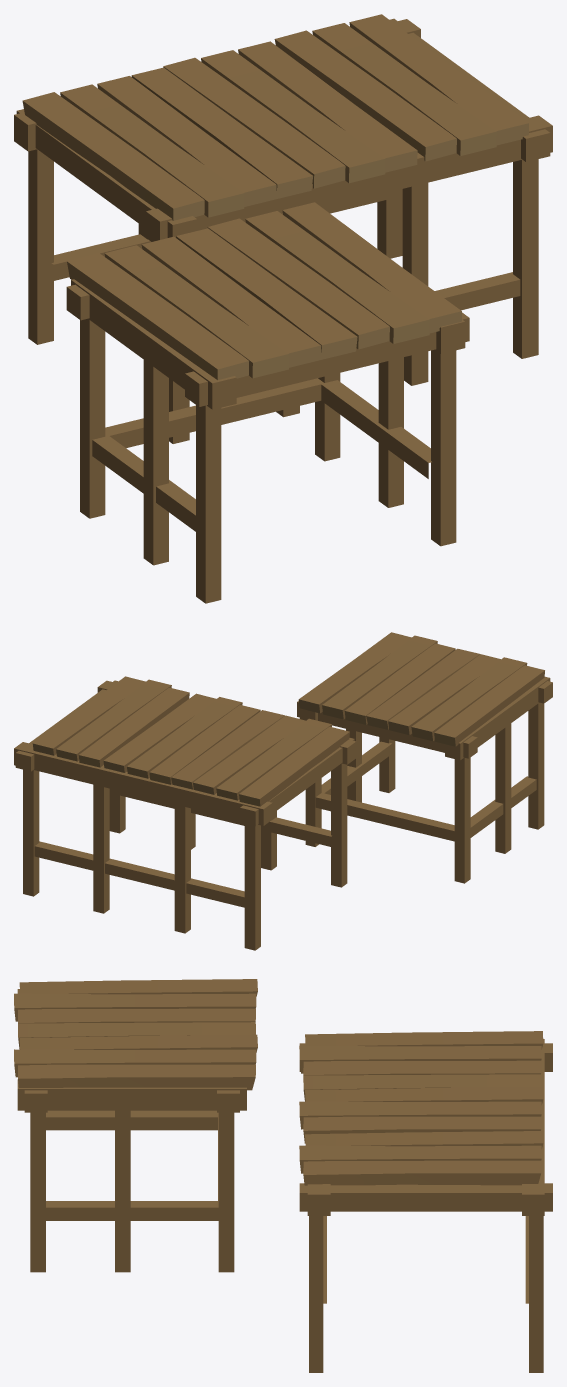
Rendered from Houses_FirstAge_3_Level2.glb.
The picture shows the model from 3 angles, top to bottom: view 1: azimuth 30°, elevation 25°; view 2: azimuth 150°, elevation 25°; view 3: azimuth 270°, elevation 25°; orthographic projection. The views are drawn at different scales.
Parts seen in each view (by area): view 1: Houses_FirstAge_3_Level2; view 2: Houses_FirstAge_3_Level2; view 3: Houses_FirstAge_3_Level2.
Part boxes in pixels (<box>): Houses_FirstAge_3_Level2: <box>14,14,552,603</box>; Houses_FirstAge_3_Level2: <box>14,632,552,950</box>; Houses_FirstAge_3_Level2: <box>14,979,552,1372</box>.
Bounding box in the file's own units: 1.32 × 0.5741 × 1.44.
